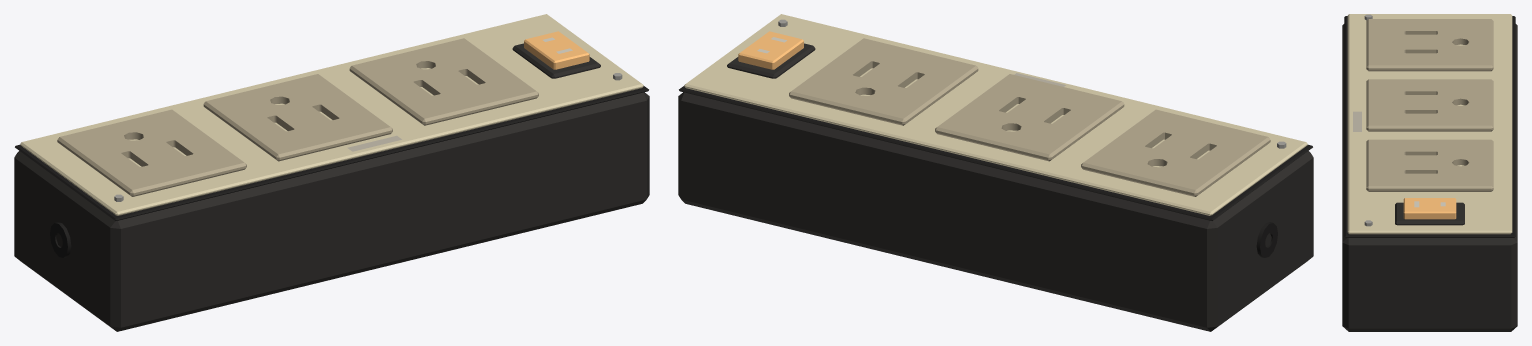
File: power-strip-desk-1d5113c94195.glb
The picture shows the model from 3 angles, left to right: view 1: azimuth 30°, elevation 25°; view 2: azimuth 150°, elevation 25°; view 3: azimuth 270°, elevation 25°; orthographic projection. The views are drawn at different scales.
Parts seen in each view (by area): view 1: plastic-dark, enamel-beige, dial-cream, rubber, emissive-warm; view 2: plastic-dark, enamel-beige, dial-cream, rubber, emissive-warm; view 3: enamel-beige, plastic-dark, dial-cream, rubber, emissive-warm, decal-print.
Boxes of the visible parts, x1,y1,x2,y2 form: plastic-dark: [14, 43, 649, 331]; enamel-beige: [57, 38, 538, 196]; dial-cream: [20, 14, 643, 215]; rubber: [15, 86, 648, 257]; emissive-warm: [524, 31, 589, 69]; plastic-dark: [678, 43, 1313, 331]; enamel-beige: [789, 38, 1270, 196]; dial-cream: [684, 14, 1307, 215]; rubber: [679, 86, 1312, 257]; emissive-warm: [738, 31, 803, 69]; enamel-beige: [1366, 19, 1493, 191]; plastic-dark: [1342, 24, 1517, 331]; dial-cream: [1347, 14, 1512, 234]; rubber: [1344, 16, 1515, 237]; emissive-warm: [1403, 198, 1456, 219]; decal-print: [1353, 111, 1361, 131].
Size of the model in its own units: 0.2415 by 0.0563 by 0.08.
